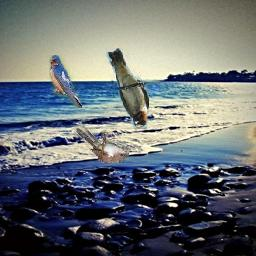Cuckoo: (75, 125, 130, 164)
Swallow: (105, 49, 149, 130), (50, 56, 83, 109)
